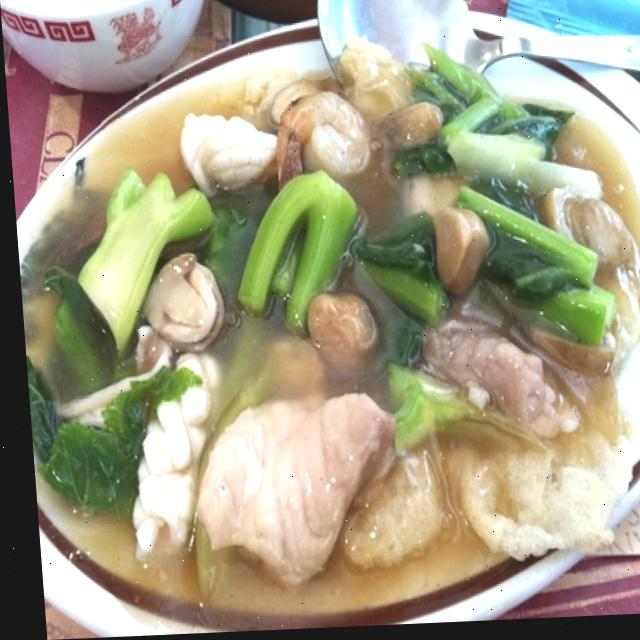面条主食: (9, 10, 640, 610)
